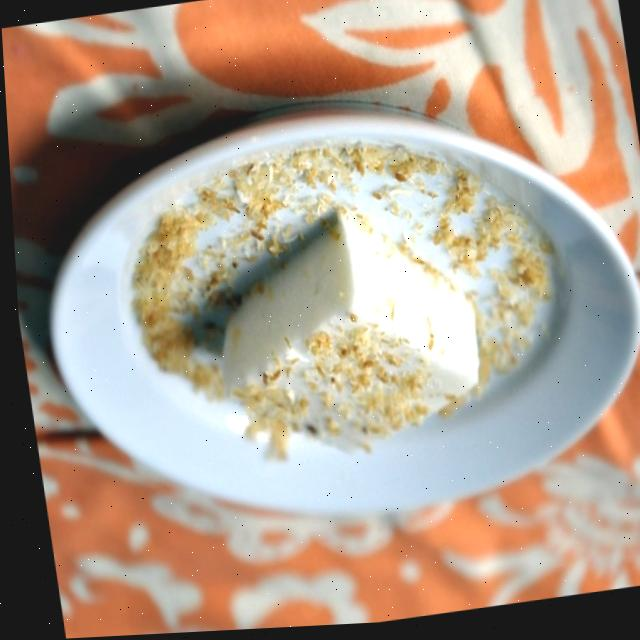蛋糕甜品: (40, 88, 640, 556)
